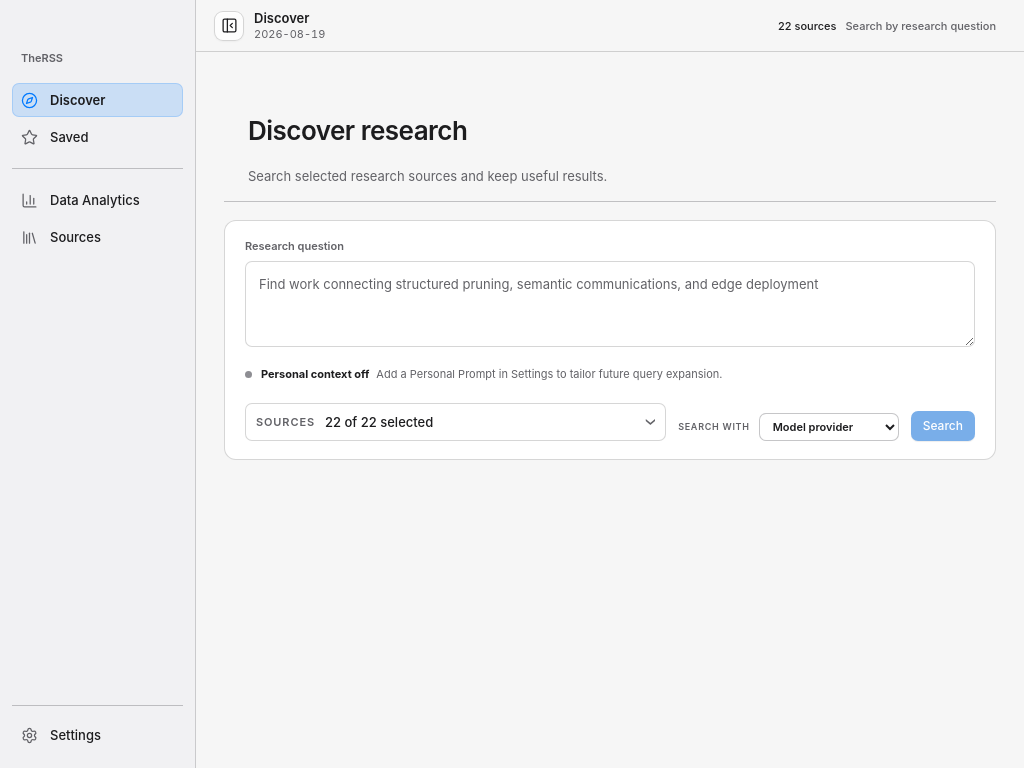
Test: App › guards navigation away from unsaved Settings edits
The width and height of the screenshot is (1024, 768).
Click the button "Settings": {"x": 98, "y": 735} [12,718,183,752]
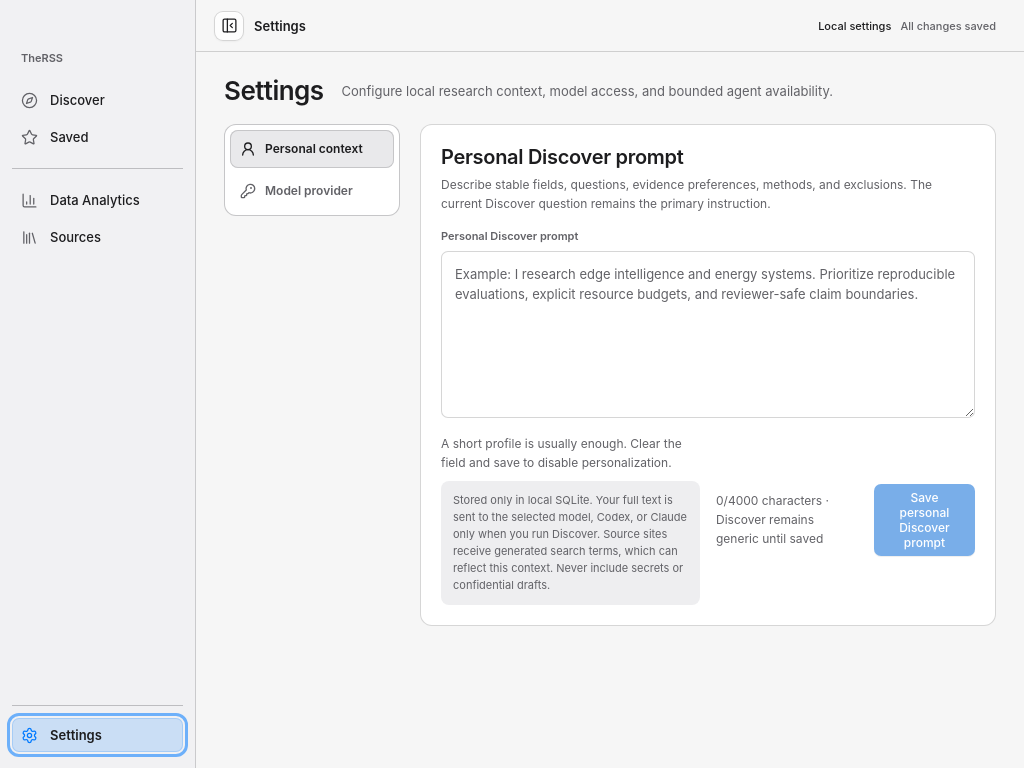
Click the tab "Model provider": {"x": 312, "y": 191} [230,172,394,210]
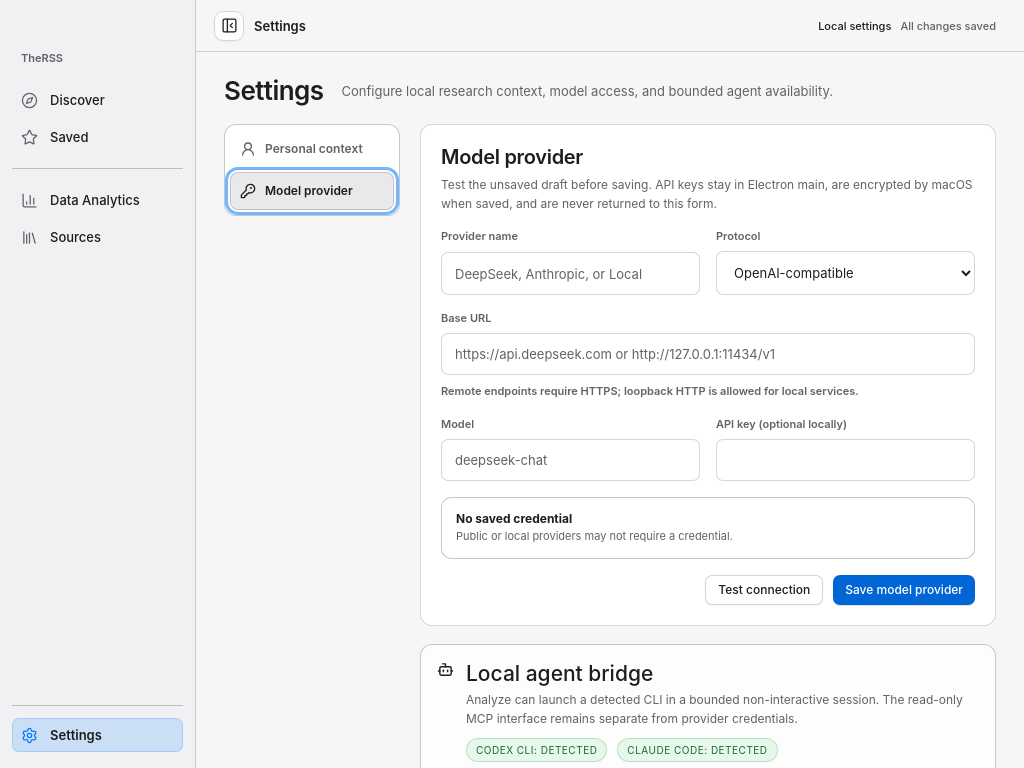
In the field labelled "Provider name": {"x": 570, "y": 274} [441,252,700,295], type "Unsaved provider"
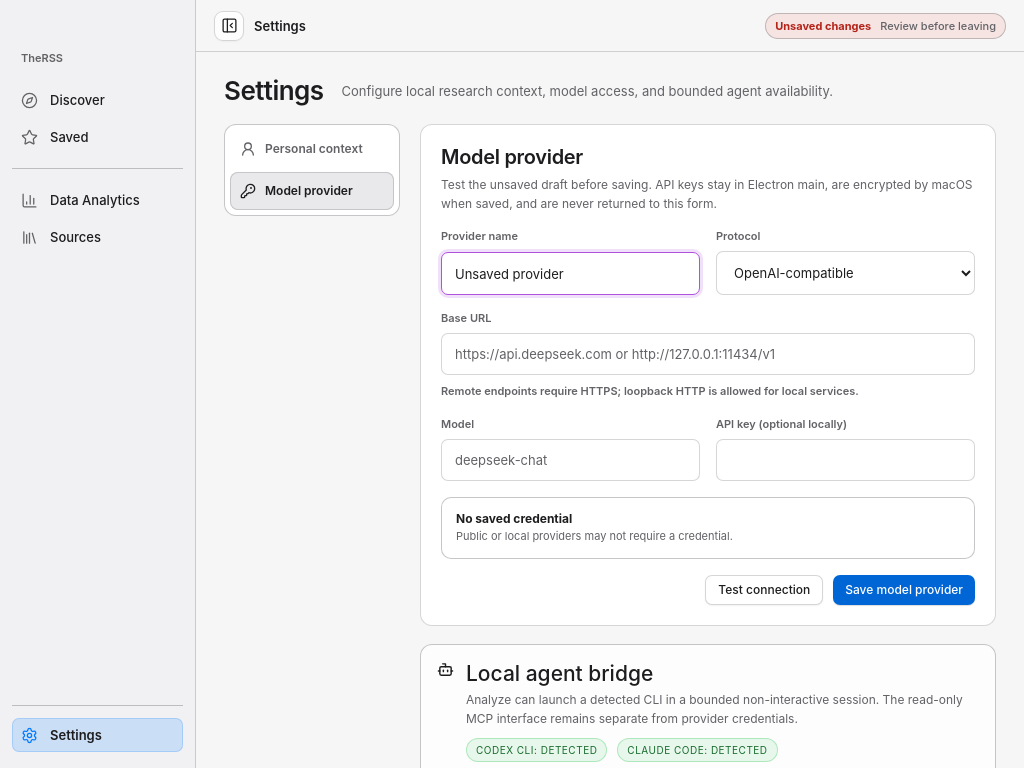
Check: the message reads "Unsaved changes", box [775,18,871,32]
Click the button with aria-label "01 Discover": {"x": 98, "y": 100} [12,83,183,117]
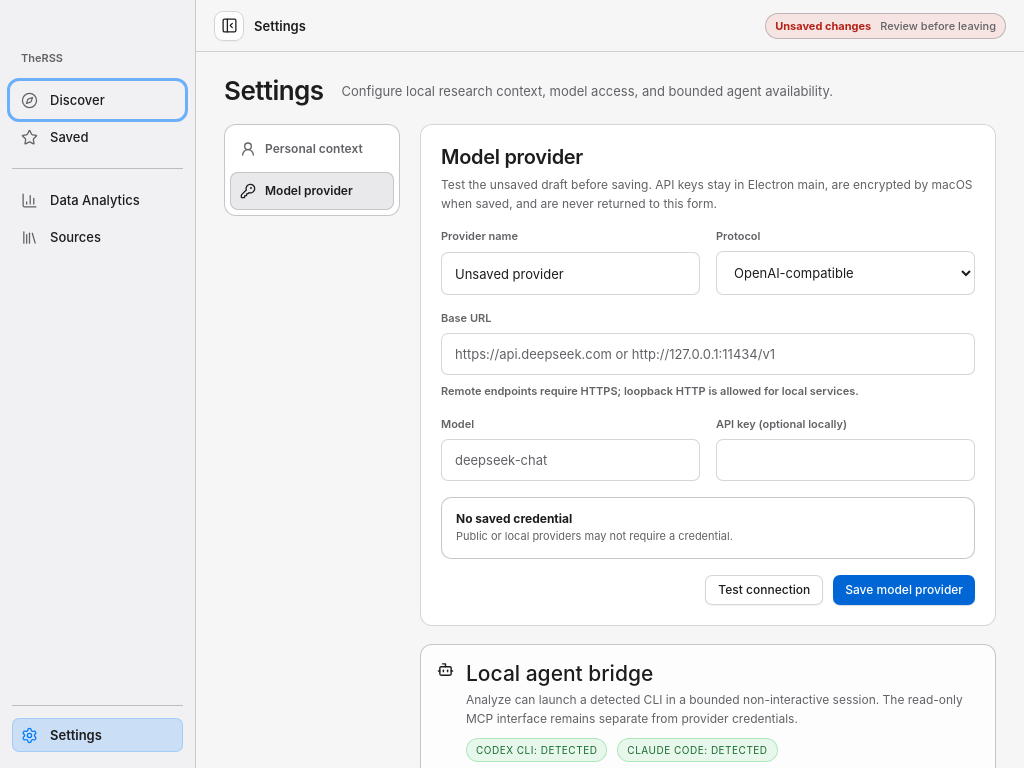
Check: the heading "Settings" is shown, box [224,76,324,106]
Click the button with aria-label "01 Discover": {"x": 98, "y": 100} [12,83,183,117]
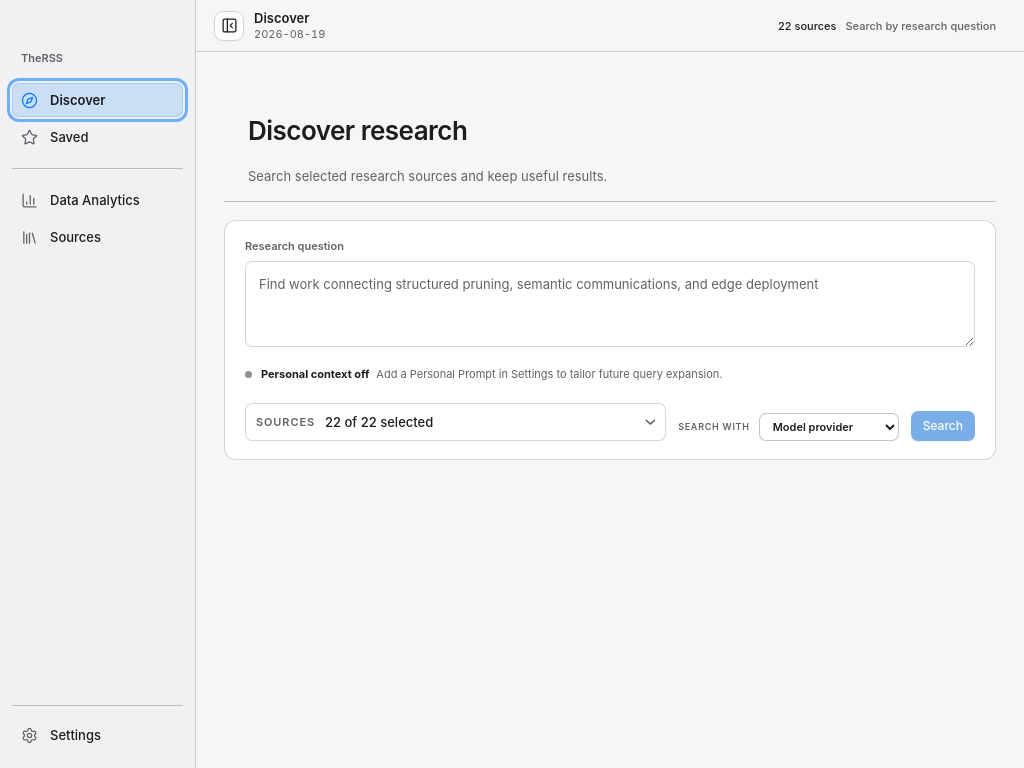
Check: the heading "Discover research" is shown, box [248,115,467,146]
